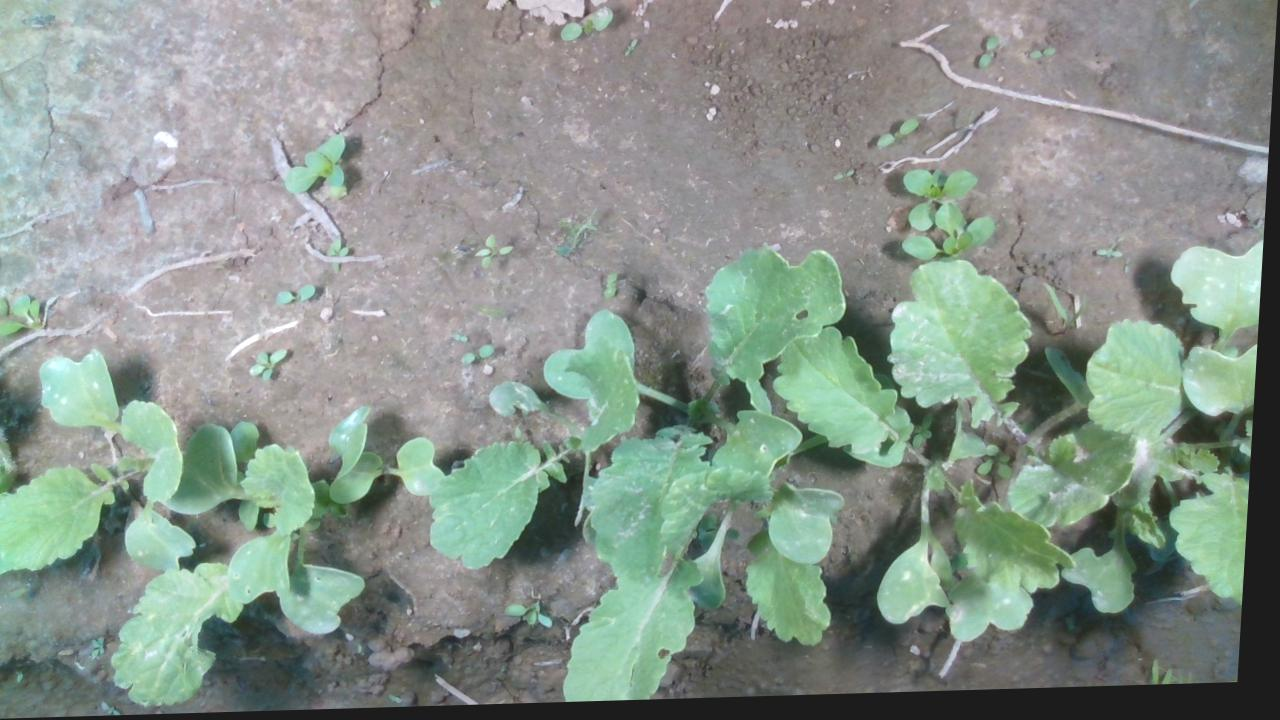weed: (468, 237, 521, 275), (875, 119, 925, 157), (251, 349, 293, 386), (275, 283, 319, 309), (976, 36, 1001, 79), (1025, 46, 1058, 75), (598, 275, 625, 304), (827, 164, 857, 189), (1094, 250, 1130, 269), (453, 331, 469, 351)
